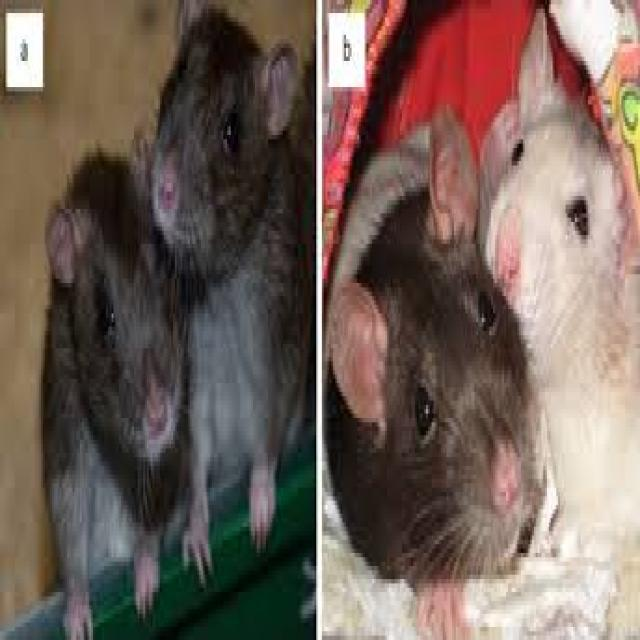Rat: (339, 0, 607, 619), (41, 48, 278, 580)
